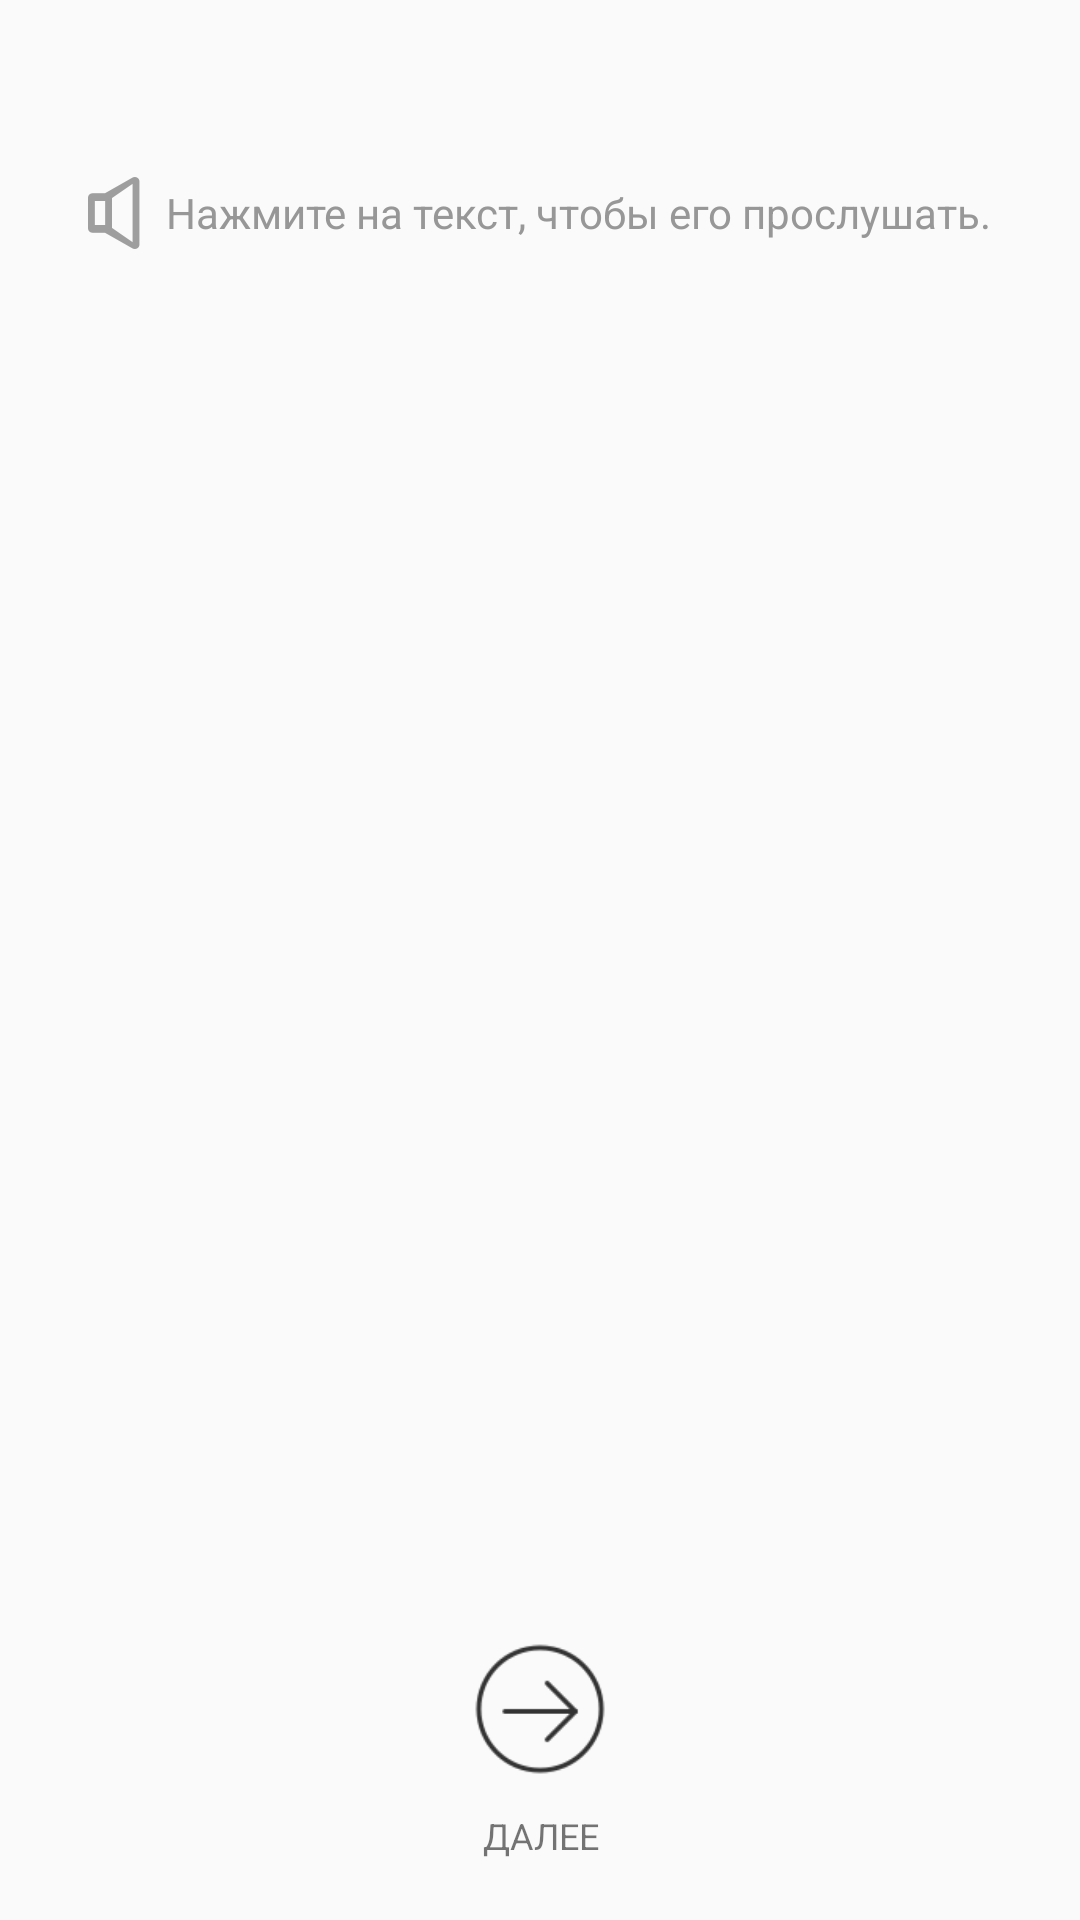

Screen size 1080x1920. Icon name, then its box in pixels as (x1, y1, x2, y2):
go to lesson: (475, 1644, 605, 1774)
lesson player: (88, 177, 140, 249)
